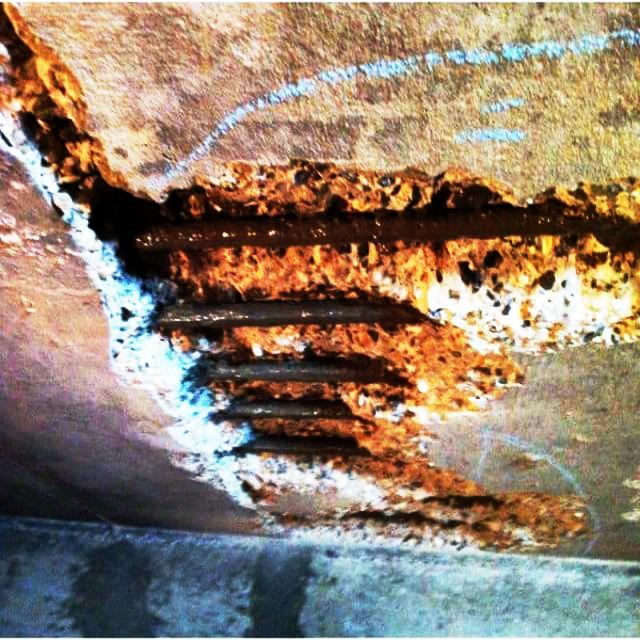Corrosion: (116, 198, 640, 256), (146, 302, 418, 331), (204, 355, 421, 390), (223, 398, 367, 427), (241, 433, 371, 460), (347, 511, 478, 534), (426, 491, 509, 514)
